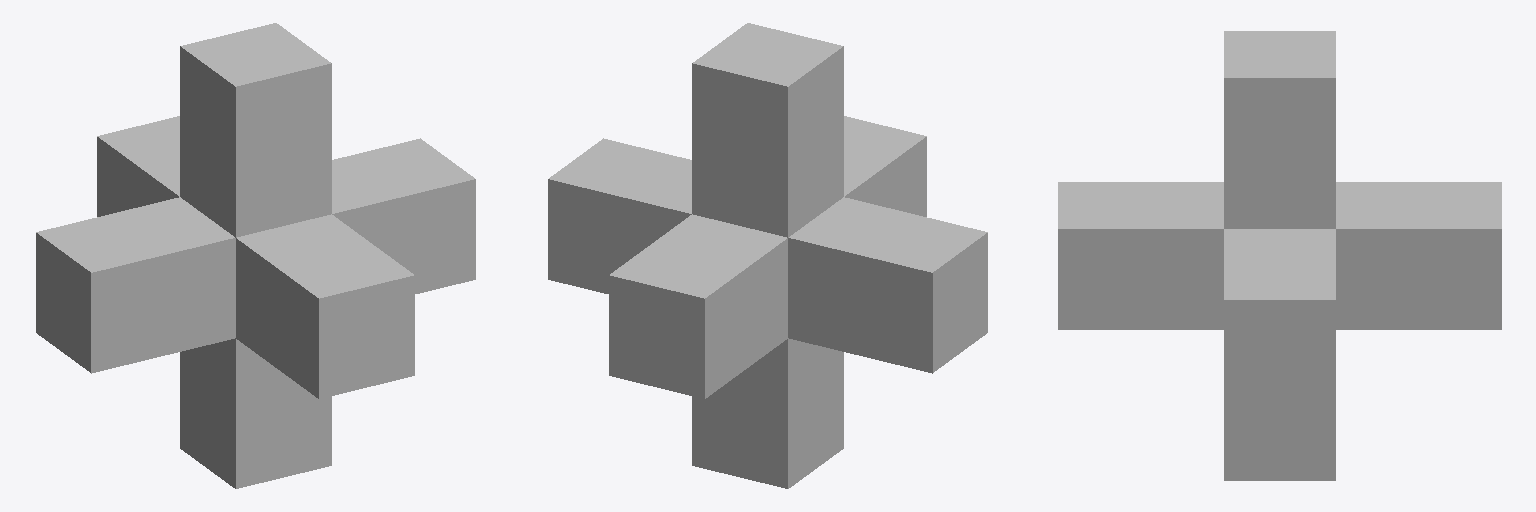
Rendered from gizmo.obj.
3 renders of one model, left to right at view 1: azimuth 30°, elevation 25°; view 2: azimuth 150°, elevation 25°; view 3: azimuth 270°, elevation 25°, orthographic.
Parts seen in each view (by area): view 1: Cube; view 2: Cube; view 3: Cube.
Part boxes in pixels (left/top/right/bottom): Cube: left=36, top=23, right=475, bottom=488; Cube: left=548, top=23, right=987, bottom=488; Cube: left=1058, top=31, right=1501, bottom=480.
Bounding box in the file's own units: 2 × 2 × 2.